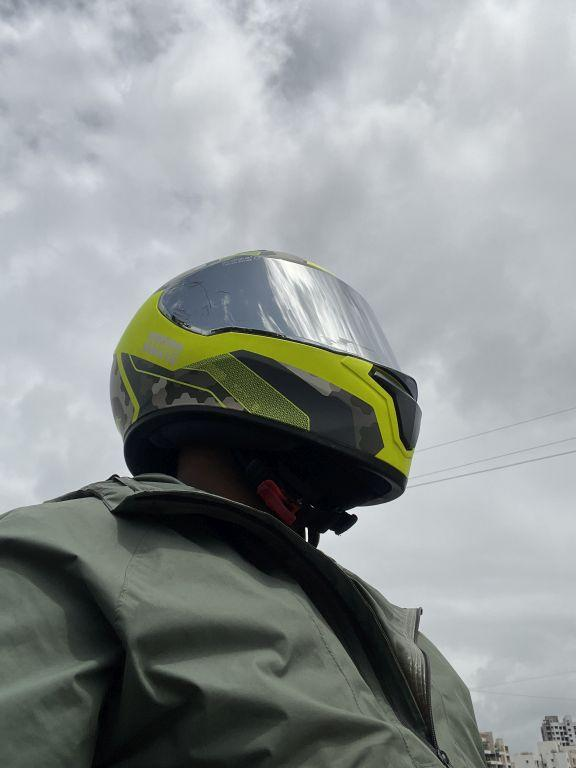helmet: (95, 234, 434, 534)
